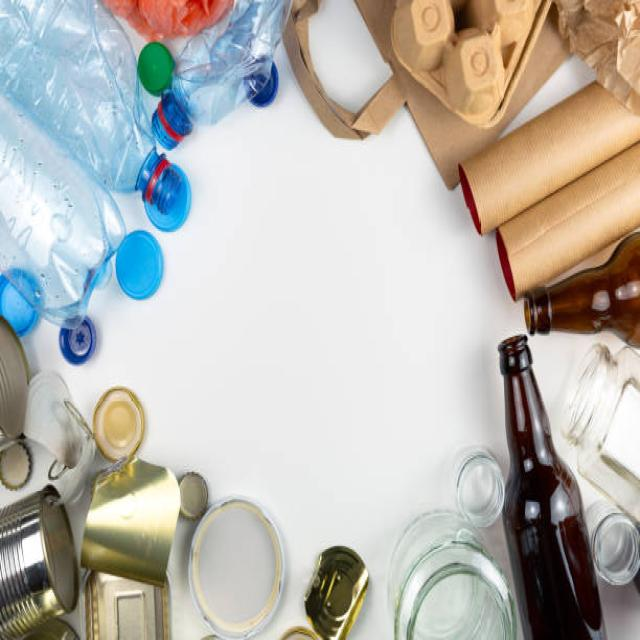cardboard: (289, 2, 525, 128)
glass: (392, 345, 533, 640)
metal: (1, 373, 359, 634)
paper: (455, 160, 559, 292)
plastic: (1, 3, 261, 364)
